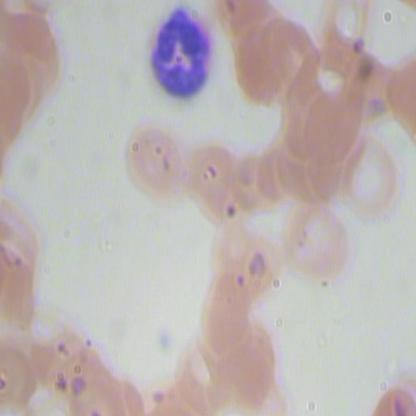RBC: (120, 120, 191, 205), (177, 134, 248, 219), (339, 133, 410, 218), (211, 220, 282, 305), (191, 264, 262, 349), (298, 79, 369, 164), (214, 322, 285, 407), (280, 197, 350, 282), (226, 24, 296, 109)
WBC: (136, 3, 222, 100)
